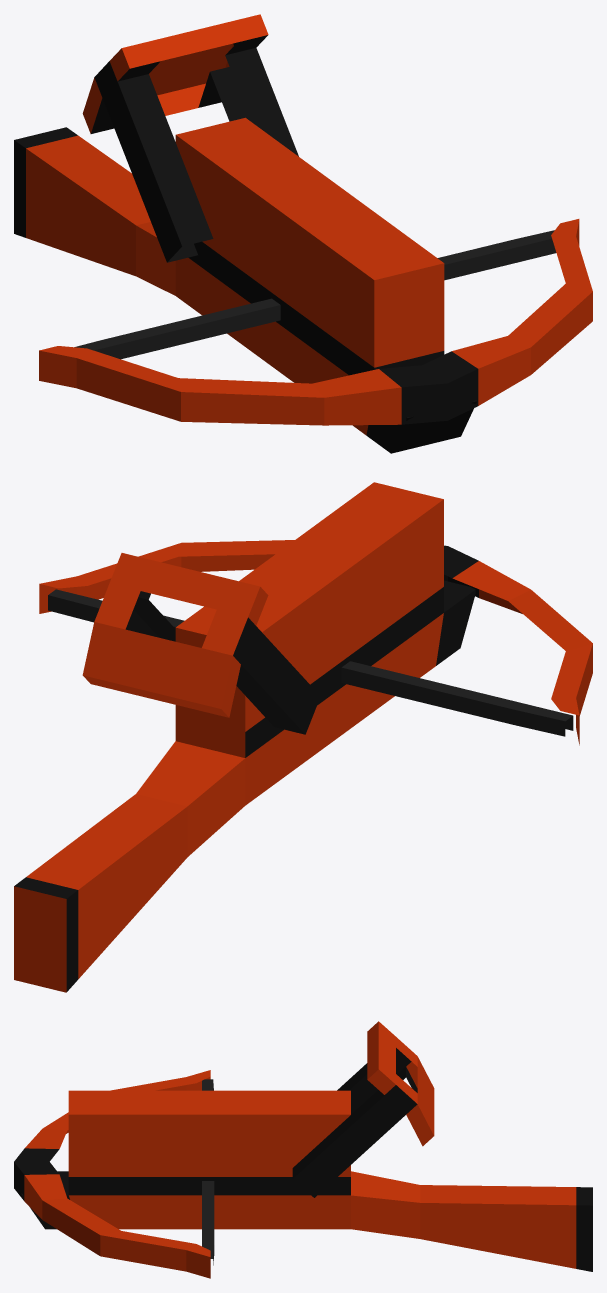
The model's file is repeater.obj.
3 renders of one model, top to bottom at view 1: azimuth 30°, elevation 25°; view 2: azimuth 150°, elevation 25°; view 3: azimuth 270°, elevation 25°, orthographic. The views are drawn at different scales.
Parts seen in each view (by area): view 1: repeater; view 2: repeater; view 3: repeater.
Part boxes in pixels (left/top/right/bottom): repeater: left=14, top=14, right=592, bottom=453; repeater: left=14, top=482, right=592, bottom=992; repeater: left=14, top=1021, right=592, bottom=1278.
Bounding box in the file's own units: 0.2899 × 0.1572 × 0.3787.
